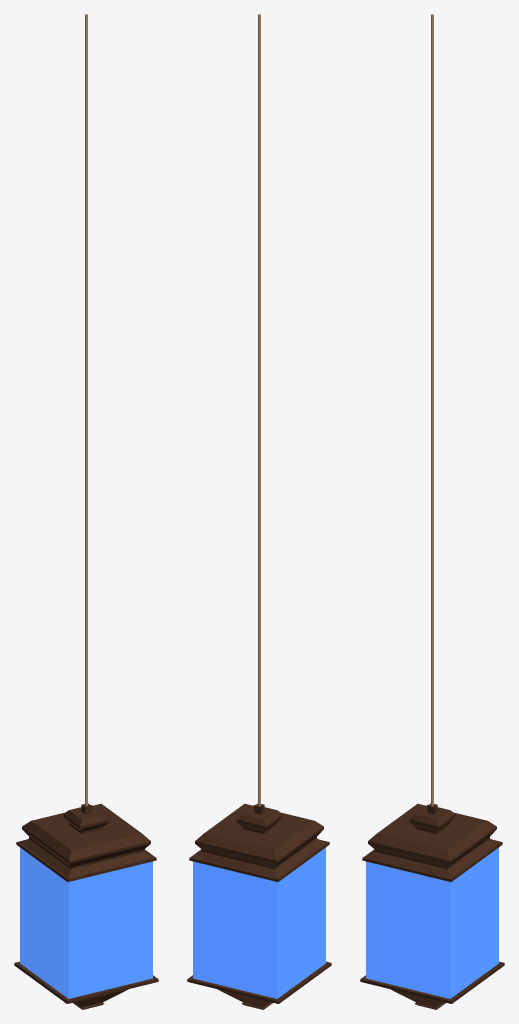
File: Luce 4 Blu .fbx
3 renders of one model, left to right at view 1: azimuth 30°, elevation 25°; view 2: azimuth 150°, elevation 25°; view 3: azimuth 330°, elevation 25°, orthographic.
Parts seen in each view (by area): view 1: Cube.038; view 2: Cube.038; view 3: Cube.038.
Boxes of the visible parts, x1,y1,x2,y2 form: Cube.038: (14, 14, 158, 1009); Cube.038: (187, 14, 331, 1009); Cube.038: (360, 14, 504, 1009).
Bounding box in the file's own units: 23.54 × 244 × 23.54.
